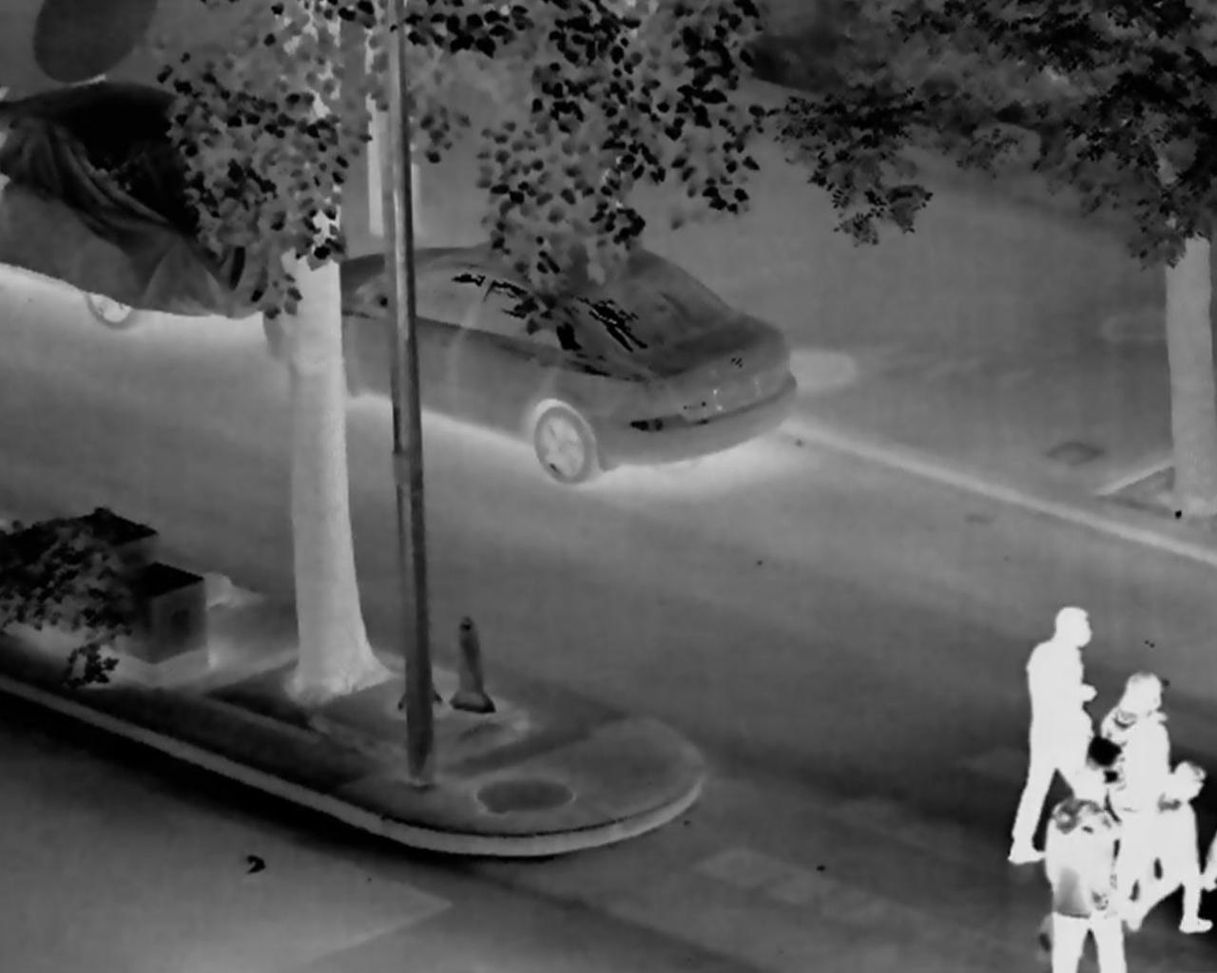person: (1006, 604, 1111, 877), (1046, 772, 1131, 973), (1099, 672, 1172, 899), (1129, 757, 1211, 937)
